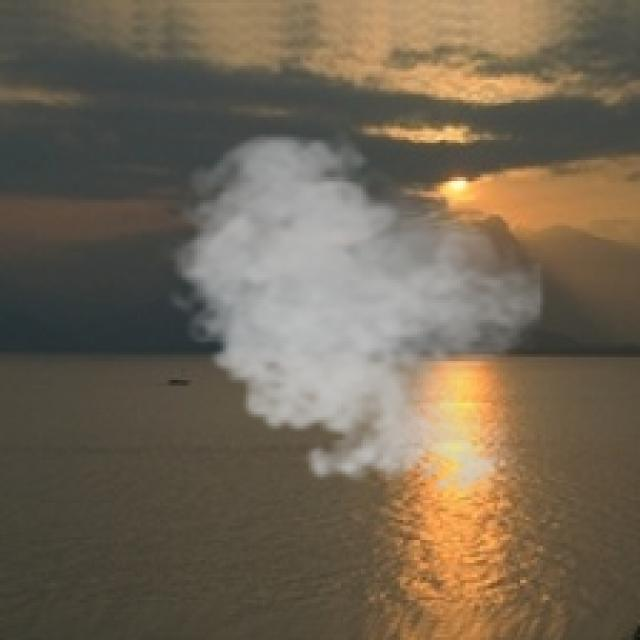Smoke: (160, 126, 546, 506)
